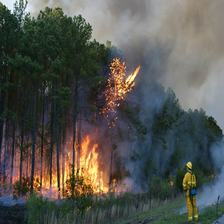fire: (7, 125, 130, 200), (97, 55, 145, 122)
